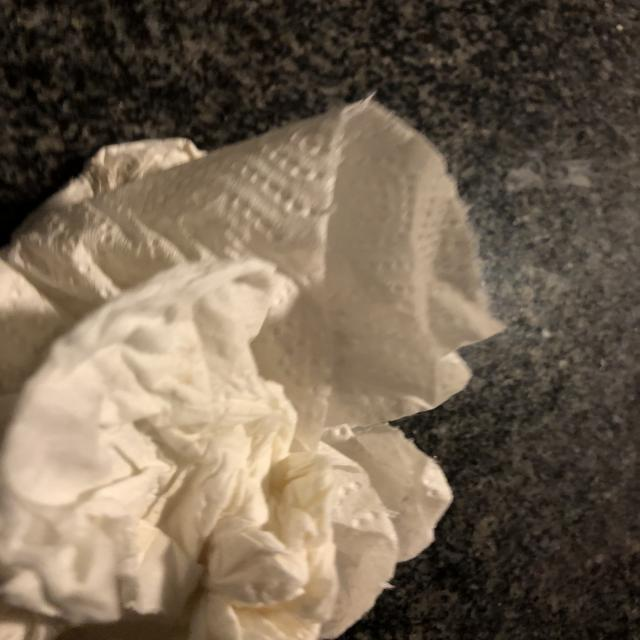kitchen paper: (0, 87, 508, 640), (0, 258, 387, 640)
